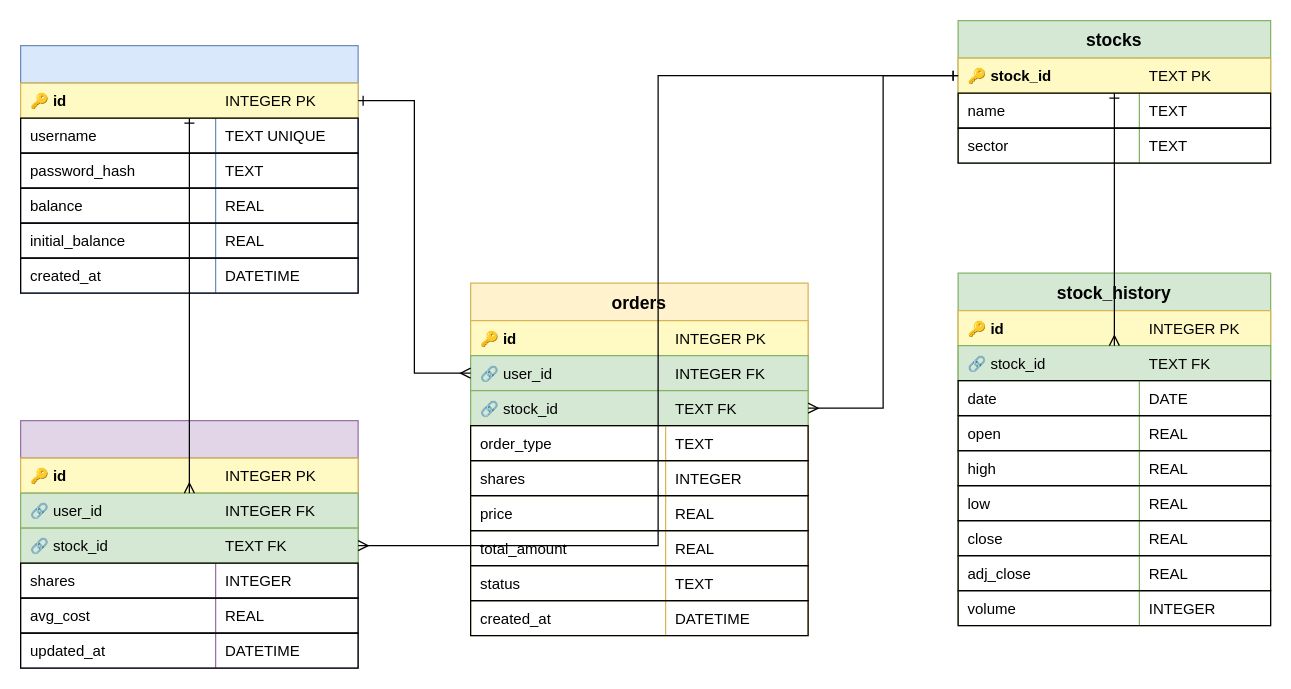
This 1291x689 diagram has some shape labels left out. Each missing label, with the box of its shape:
portfolio: (19, 419, 358, 668)
users: (19, 44, 358, 293)
